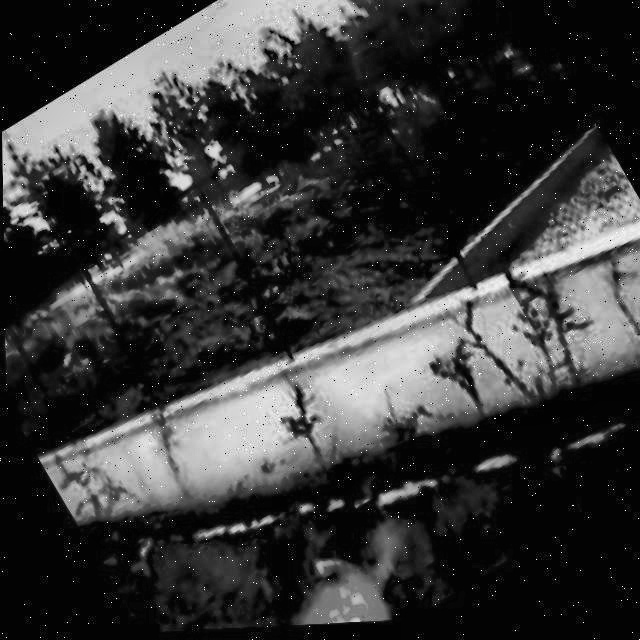Fire: (221, 522, 434, 631)
